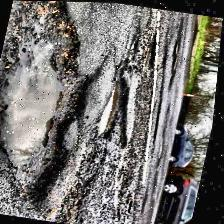pothole: (0, 0, 108, 212), (96, 71, 146, 146)
